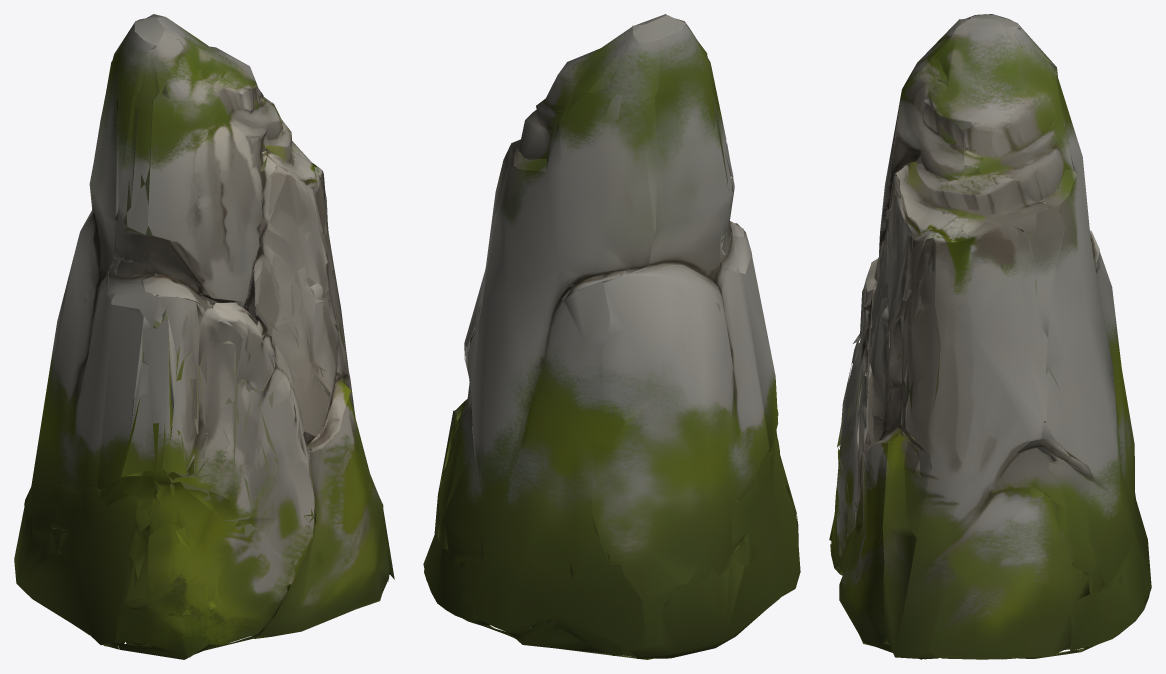
File: stone_taper_hy.glb
3 renders of one model, left to right at view 1: azimuth 30°, elevation 25°; view 2: azimuth 150°, elevation 25°; view 3: azimuth 270°, elevation 25°, orthographic. The views are drawn at different scales.
Parts seen in each view (by area): view 1: stone_taper_hy; view 2: stone_taper_hy; view 3: stone_taper_hy.
Part boxes in pixels (bbox=[...]): stone_taper_hy: bbox=[14, 14, 394, 659]; stone_taper_hy: bbox=[423, 14, 800, 659]; stone_taper_hy: bbox=[829, 14, 1151, 659].
Size of the model in its own units: 1.93 by 3.39 by 1.8.
1 material, 1 textured.
